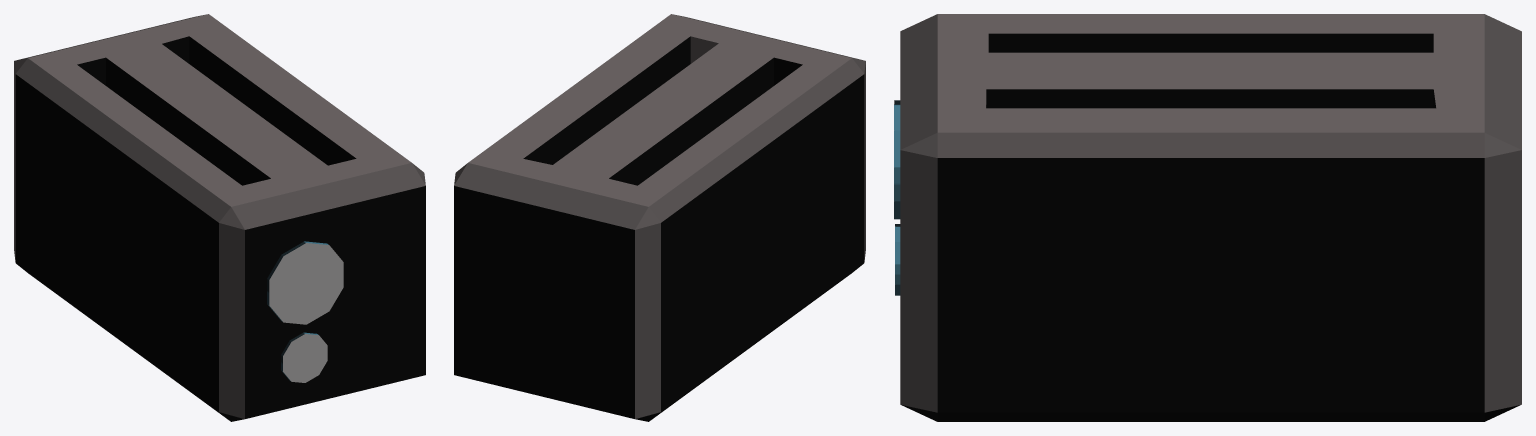
The model's file is tostadora.fbx.
3 views of the same model, side by side, from view 1: azimuth 30°, elevation 25°; view 2: azimuth 150°, elevation 25°; view 3: azimuth 270°, elevation 25° (orthographic). The views are drawn at different scales.
Parts seen in each view (by area): view 1: Cube.002; view 2: Cube.002; view 3: Cube.002.
Part boxes in pixels (box(x1,y1,x2,y2)): Cube.002: box(14, 14, 425, 421); Cube.002: box(454, 14, 865, 421); Cube.002: box(894, 14, 1521, 421).
Bounding box in the file's own units: 73.85 × 73.85 × 145.
